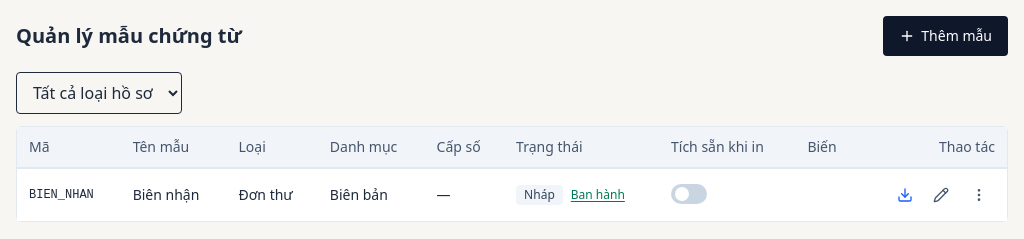
Vòng đời mẫu chứng từ — màn quản trị › bấm Ban hành thì gọi API và đổi ngay trên màn hình
The image size is (1024, 239).
Click the button with test id "btn-ban-hanh-d1" at point(598, 195), box x1=571 y1=187 x2=625 y2=203
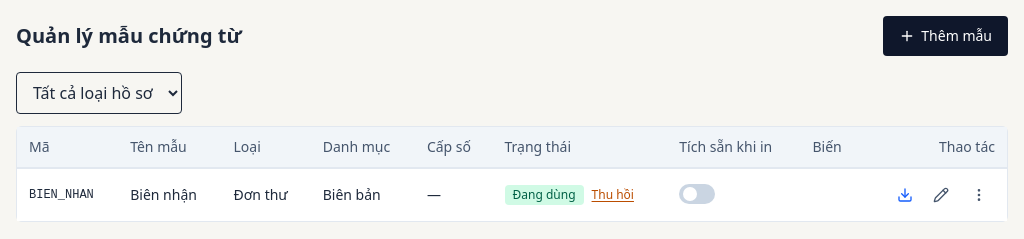
Expected: the text with test id "trang-thai-d1" reads "Đang dùng", x1=512 y1=186 x2=576 y2=203
